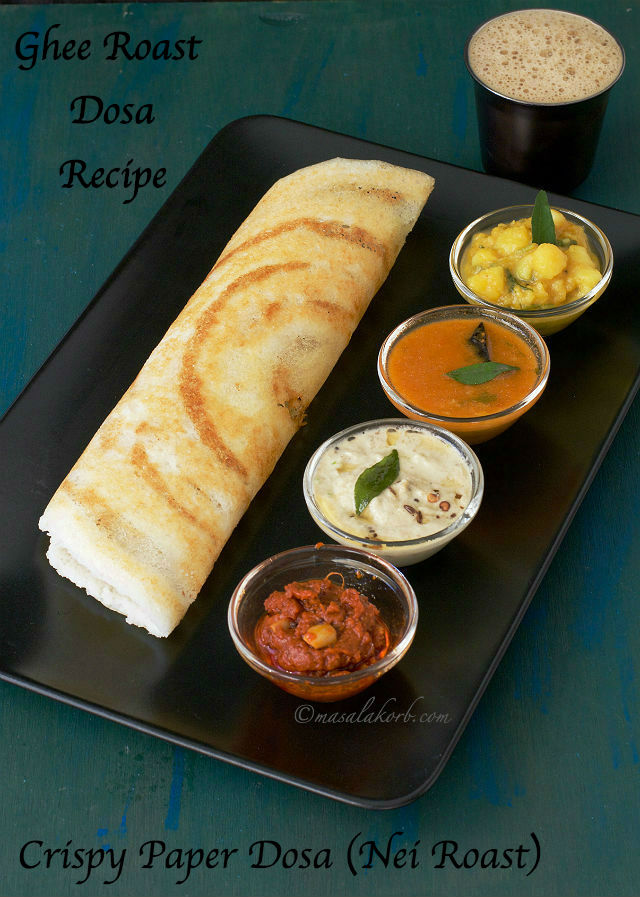dosa: (29, 117, 451, 688)
